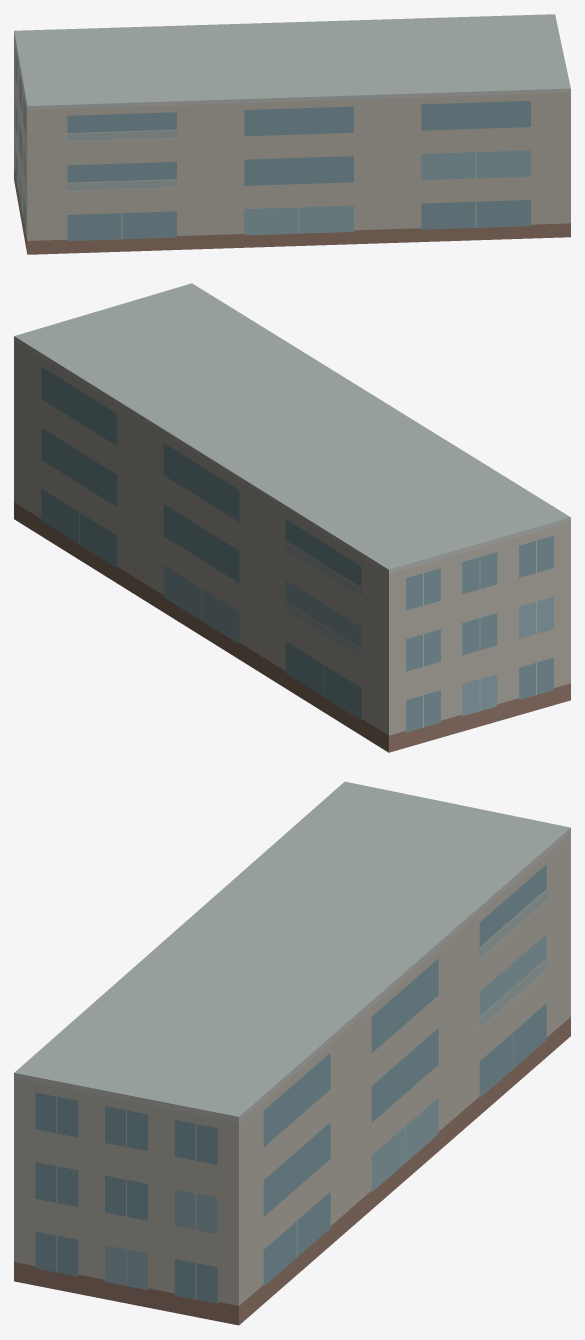
The model's file is survey-upis-32959120.glb.
3 views of the same model, one above another, from view 1: azimuth 30°, elevation 25°; view 2: azimuth 150°, elevation 25°; view 3: azimuth 270°, elevation 25° (orthographic). The views are drawn at different scales.
Parts seen in each view (by area): view 1: survey-upis-32959120.tmp; view 2: survey-upis-32959120.tmp; view 3: survey-upis-32959120.tmp.
Boxes of the visible parts, bbox=[...] form: survey-upis-32959120.tmp: bbox=[14, 14, 570, 254]; survey-upis-32959120.tmp: bbox=[14, 283, 570, 752]; survey-upis-32959120.tmp: bbox=[14, 781, 570, 1325].
Size of the model in its own units: 31.57 by 9.15 by 22.15.
